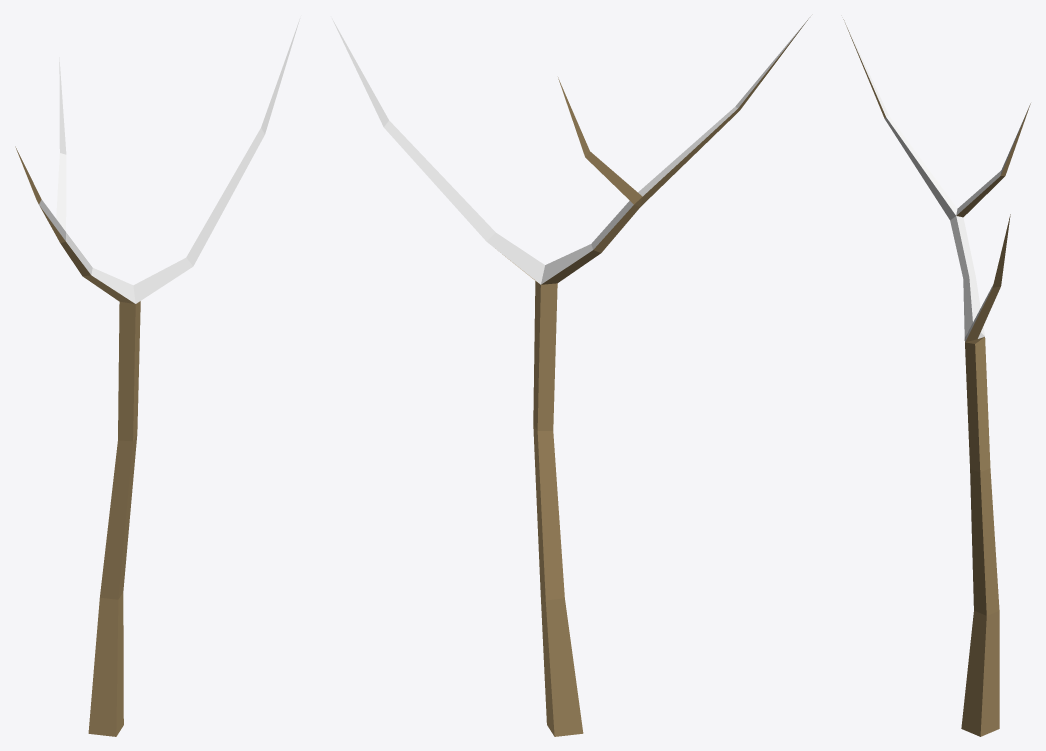
File: Apple_Tree_NoLeaves_s_Snow_01.fbx
3 renders of one model, left to right at view 1: azimuth 30°, elevation 25°; view 2: azimuth 150°, elevation 25°; view 3: azimuth 270°, elevation 25°, orthographic. The views are drawn at different scales.
Parts seen in each view (by area): view 1: Apple_Tree_NoLeaves_s_Snow_01; view 2: Apple_Tree_NoLeaves_s_Snow_01; view 3: Apple_Tree_NoLeaves_s_Snow_01.
Boxes of the visible parts, x1,y1,x2,y2 form: Apple_Tree_NoLeaves_s_Snow_01: (15, 18, 300, 736); Apple_Tree_NoLeaves_s_Snow_01: (332, 16, 810, 736); Apple_Tree_NoLeaves_s_Snow_01: (842, 17, 1030, 736).
Size of the model in its own units: 131 by 226 by 61.11.
